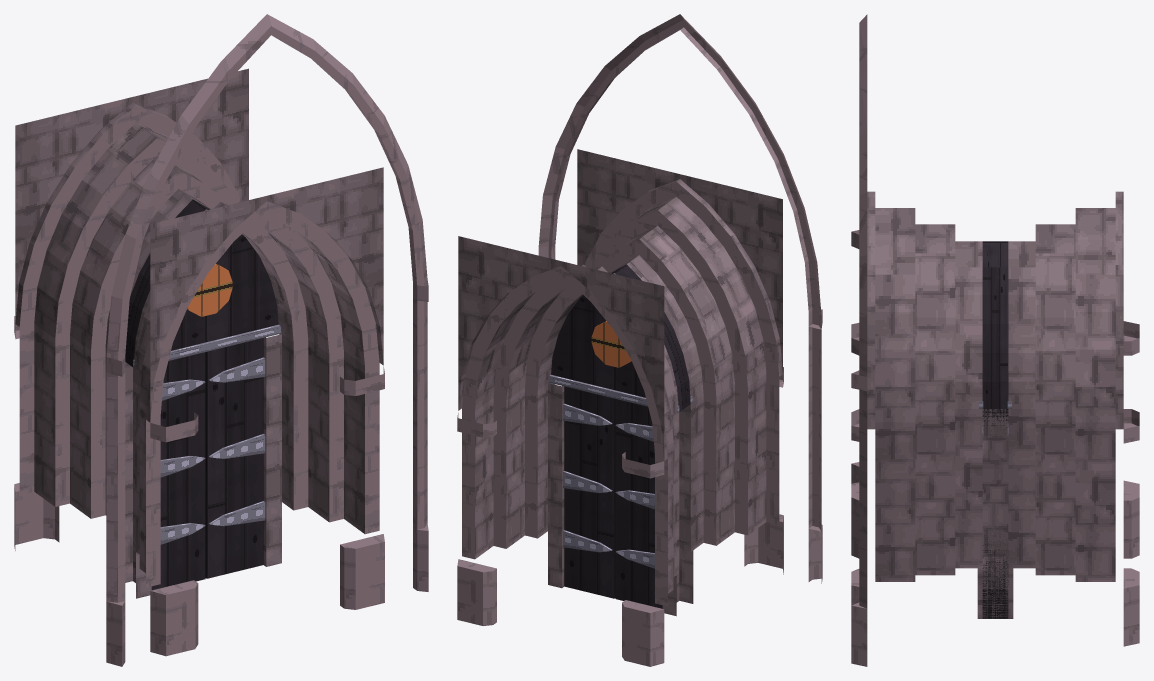
The model's file is door_bosshoch_c.glb.
The picture shows the model from 3 angles, left to right: view 1: azimuth 30°, elevation 25°; view 2: azimuth 150°, elevation 25°; view 3: azimuth 270°, elevation 25°; orthographic projection. The views are drawn at different scales.
Visible parts, largest first — view 1: portal_front, portal_back, leaf_a, leaf_b, portal; view 2: portal_front, portal_back, leaf_a, portal, leaf_b; view 3: portal_front, portal_back, portal, leaf_a.
Part boxes in pixels (x1,y1,x2,y2): portal_front: (106,14,428,666); portal_back: (14,68,248,582); leaf_a: (205,338,265,578); leaf_b: (135,352,205,590); portal: (125,199,281,367); portal_front: (538,14,822,603); portal_back: (457,236,679,666); leaf_a: (563,386,615,598); portal: (548,264,692,412); leaf_b: (615,399,662,608); portal_front: (851,14,995,666); portal_back: (995,191,1139,646); portal: (979,241,1011,408); leaf_a: (982,409,1008,618).
Bounding box in the file's own units: 2.75 × 4.99 × 2.25.
Materials: 1 (1 with a texture image).
